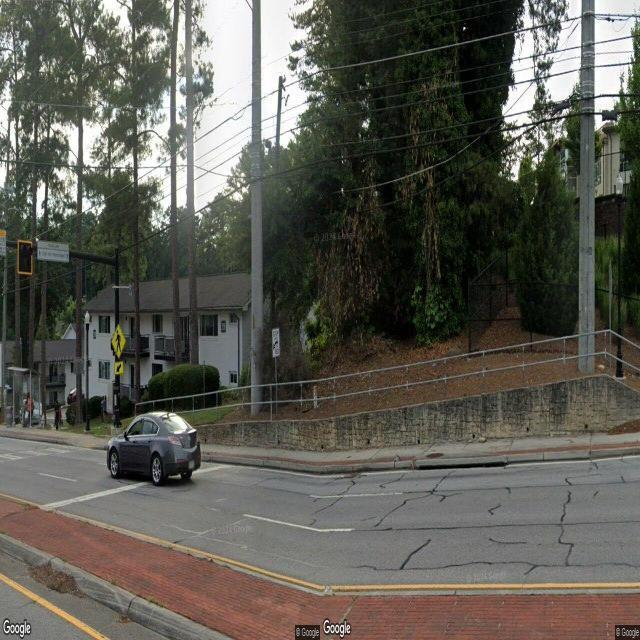shelter: (6, 366, 42, 431)
trash_can: (6, 406, 12, 426)
